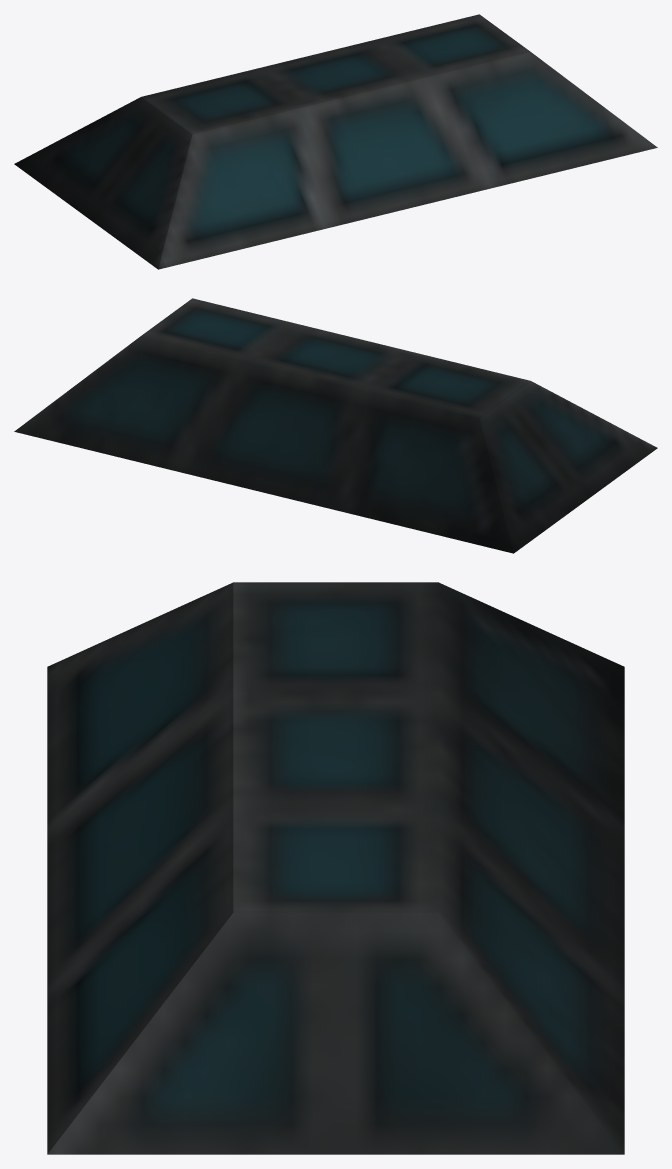
Rendered from Roof_SmallGlass.FBX.
The picture shows the model from 3 angles, top to bottom: view 1: azimuth 30°, elevation 25°; view 2: azimuth 150°, elevation 25°; view 3: azimuth 270°, elevation 25°; orthographic projection. The views are drawn at different scales.
Parts seen in each view (by area): view 1: Roof_SmallGlass; view 2: Roof_SmallGlass; view 3: Roof_SmallGlass.
Part boxes in pixels (left/top/right/bottom): Roof_SmallGlass: left=14, top=14, right=657, bottom=269; Roof_SmallGlass: left=14, top=298, right=657, bottom=553; Roof_SmallGlass: left=47, top=582, right=624, bottom=1154.
Bounding box in the file's own units: 8 × 1.25 × 4.
